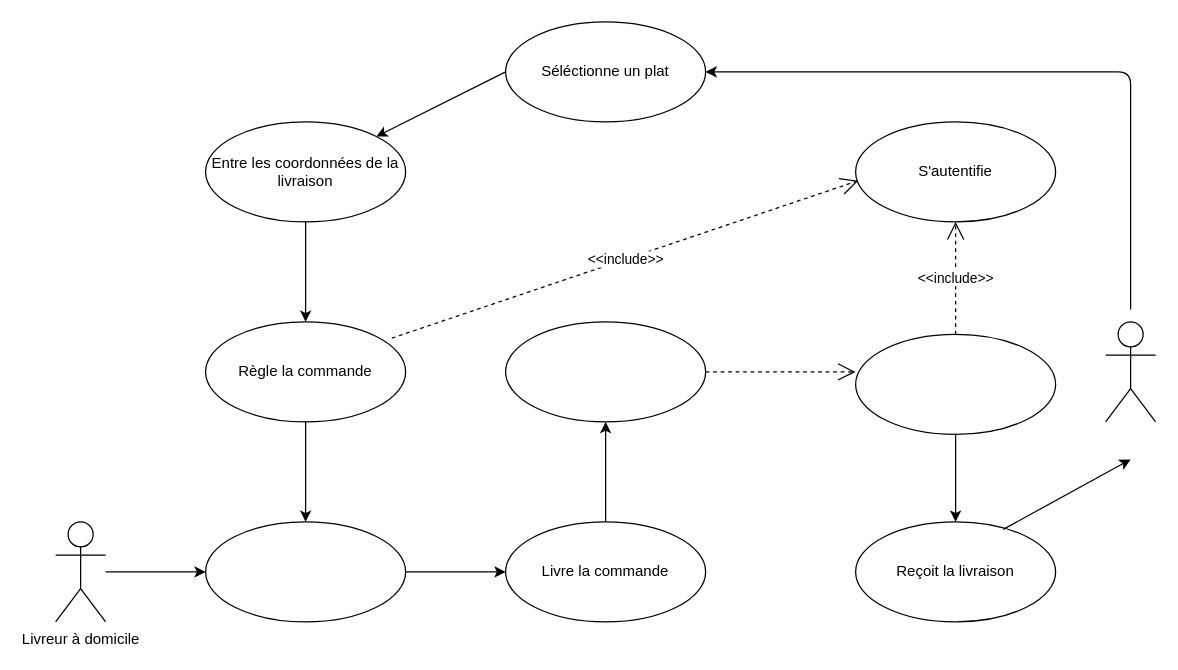
Some shapes in this 1178 by 670 pixel diagram are drawn without their labels. The box of each missing label's shape, as (x1, y1, x2, y2) in pixels:
Client: (1104, 321, 1156, 422)
Envoie le suivi de géolocalisation: (504, 321, 706, 422)
Reçoit une mission: (204, 521, 406, 622)
Suit la commande: (854, 333, 1056, 434)
